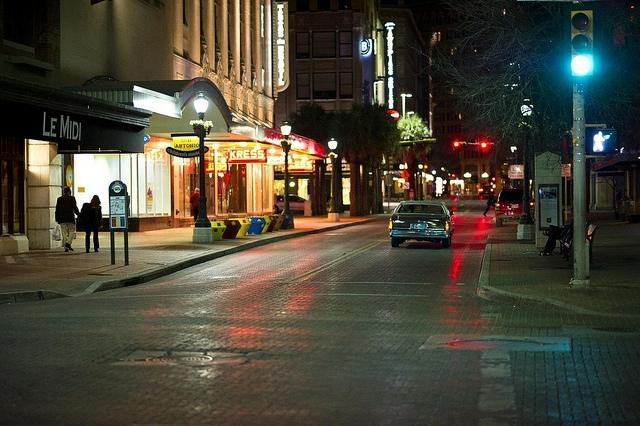car: (390, 202, 454, 244), (494, 188, 534, 227), (274, 194, 307, 213)
